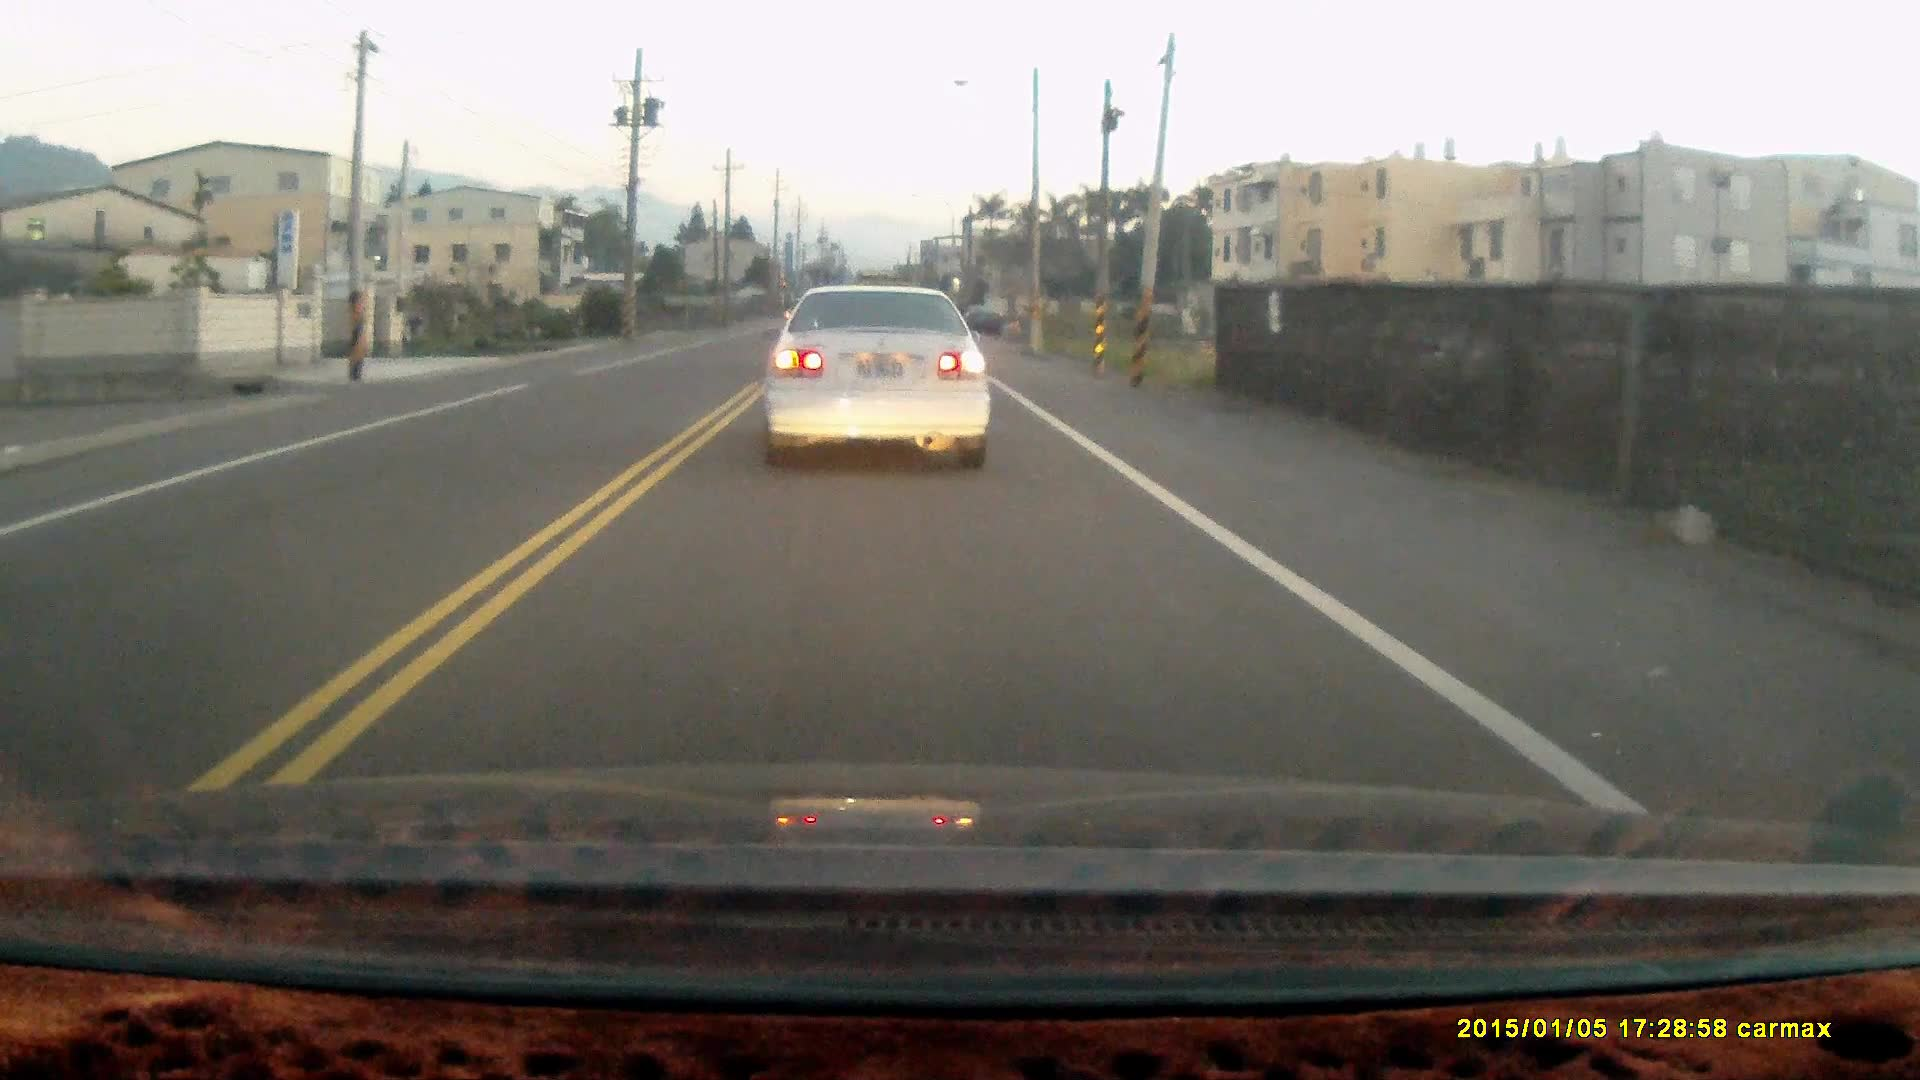vehicle: (761, 286, 997, 476)
